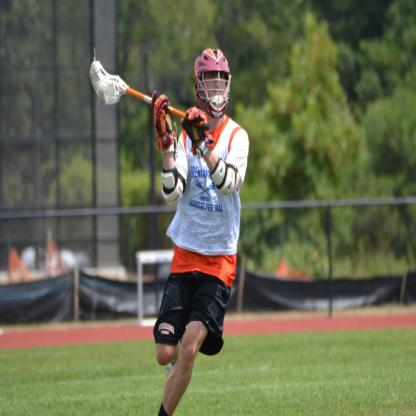Helmet: (193, 49, 231, 114)
